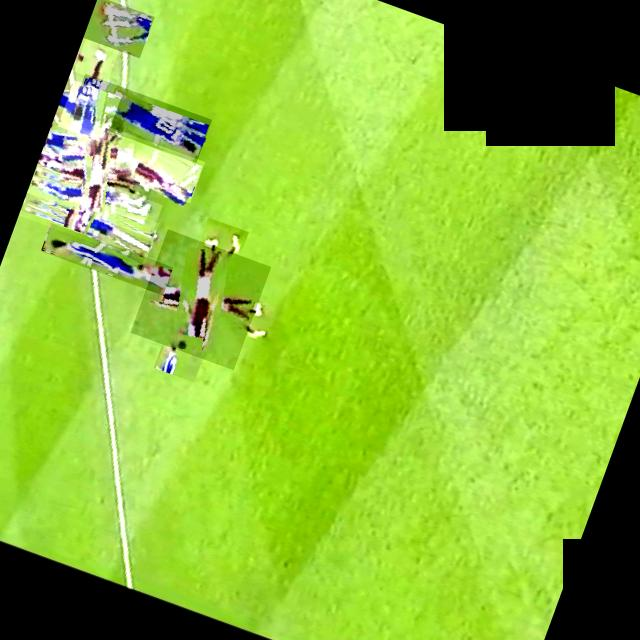soccer-player: (129, 229, 270, 370), (58, 114, 204, 203), (68, 74, 211, 162), (18, 176, 158, 262), (26, 160, 162, 238), (44, 124, 146, 226), (40, 222, 172, 296), (41, 124, 124, 177), (82, 0, 153, 58), (56, 80, 120, 143), (73, 38, 118, 84)
